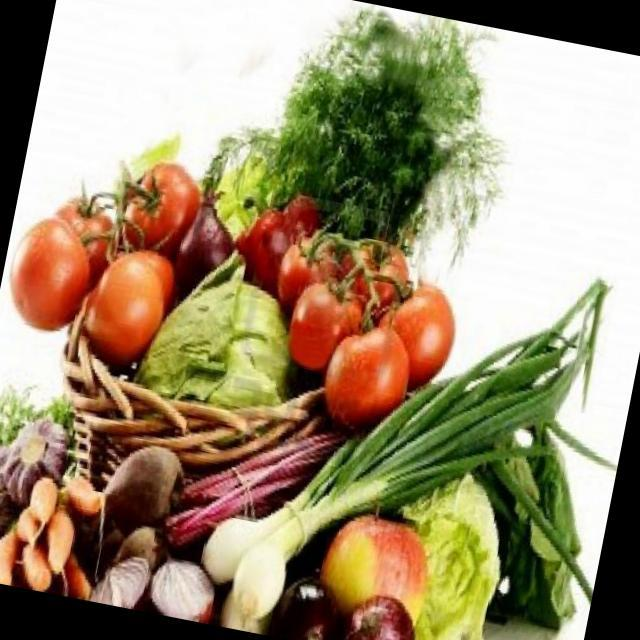Tomate: (62, 246, 184, 377), (311, 297, 423, 436), (351, 263, 469, 394), (0, 214, 99, 342), (274, 265, 363, 382)
